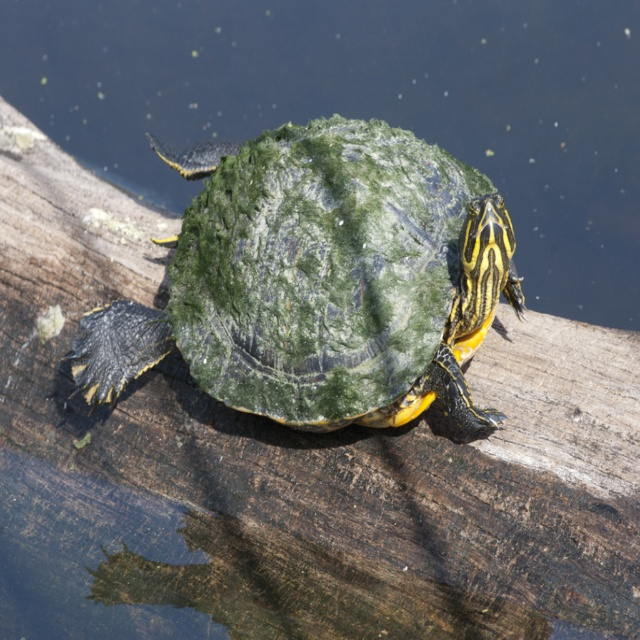Tortoise: (61, 113, 530, 430)
